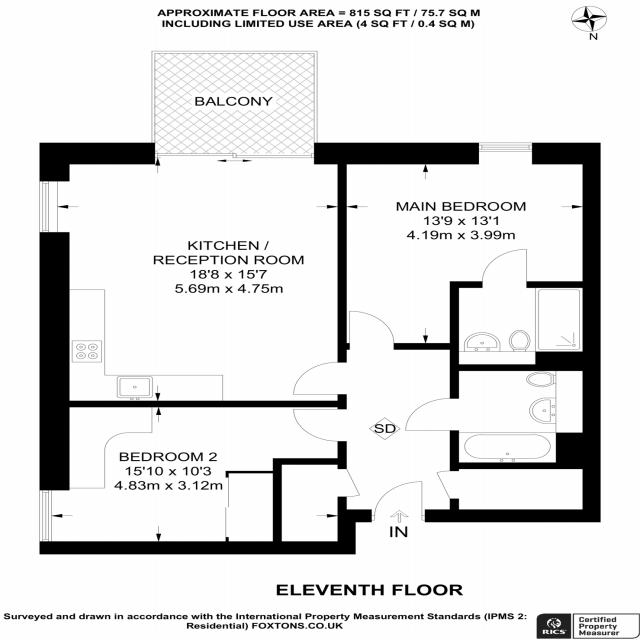DOOR: (289, 356, 352, 399), (372, 479, 425, 522), (346, 307, 399, 350), (478, 247, 533, 288), (402, 396, 460, 432), (290, 407, 346, 443)
ROOM: (337, 142, 601, 350), (39, 406, 356, 555)
SLIDING DOOR: (154, 150, 315, 163)
WINDOW: (37, 178, 61, 234), (476, 142, 534, 157), (38, 489, 54, 543)
